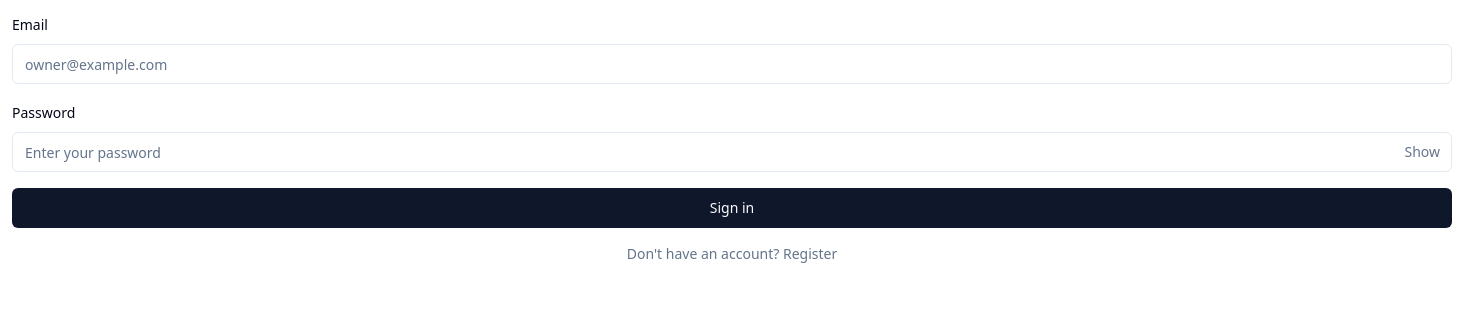
Test: LoginForm › shows validation errors for empty fields
This screenshot has width=1464, height=336.
Click the button "Sign in" at x=732, y=208, box top-left (12, 188), bottom-right (1452, 228)
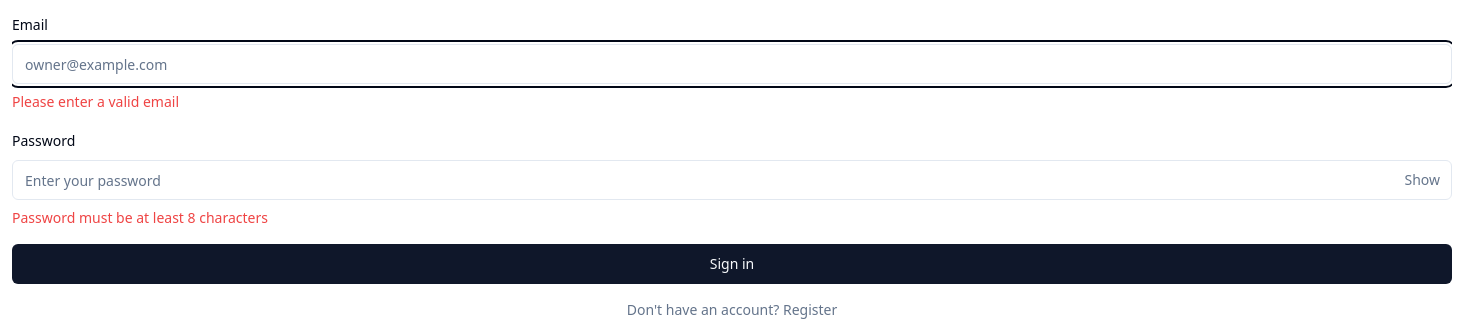
Result: the text "Please enter a valid email" is shown at top-left (12, 92), bottom-right (179, 111)
Result: the text "Password must be at least 8 characters" is shown at top-left (12, 208), bottom-right (268, 227)
